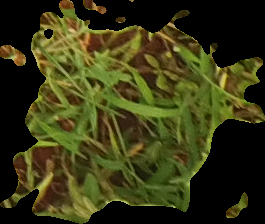grass: (1, 1, 263, 222)
